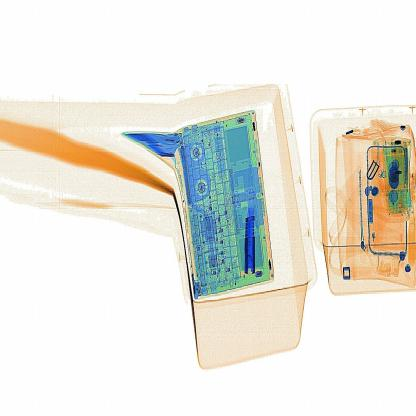pliers: (236, 198, 258, 272)
